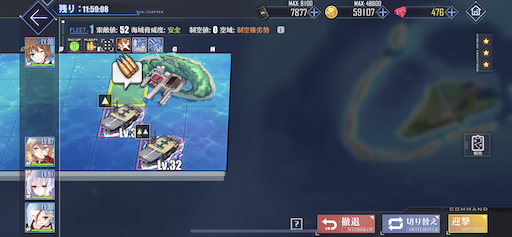lv1: (94, 90, 140, 136)
lv2: (137, 117, 186, 176)
